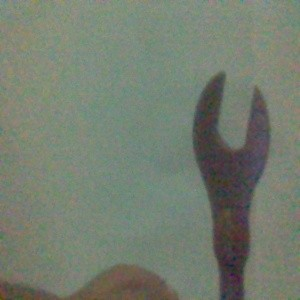spanner: (192, 70, 271, 300)
